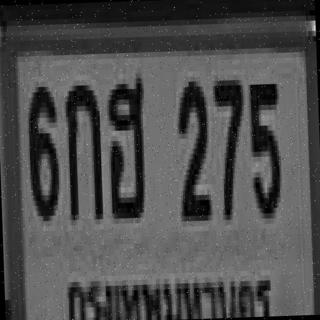A01: (63, 80, 101, 215)
A44: (104, 73, 146, 214)
N02: (175, 76, 210, 216)
N05: (246, 79, 280, 214)
N06: (25, 81, 58, 216)
N07: (212, 74, 245, 214)
